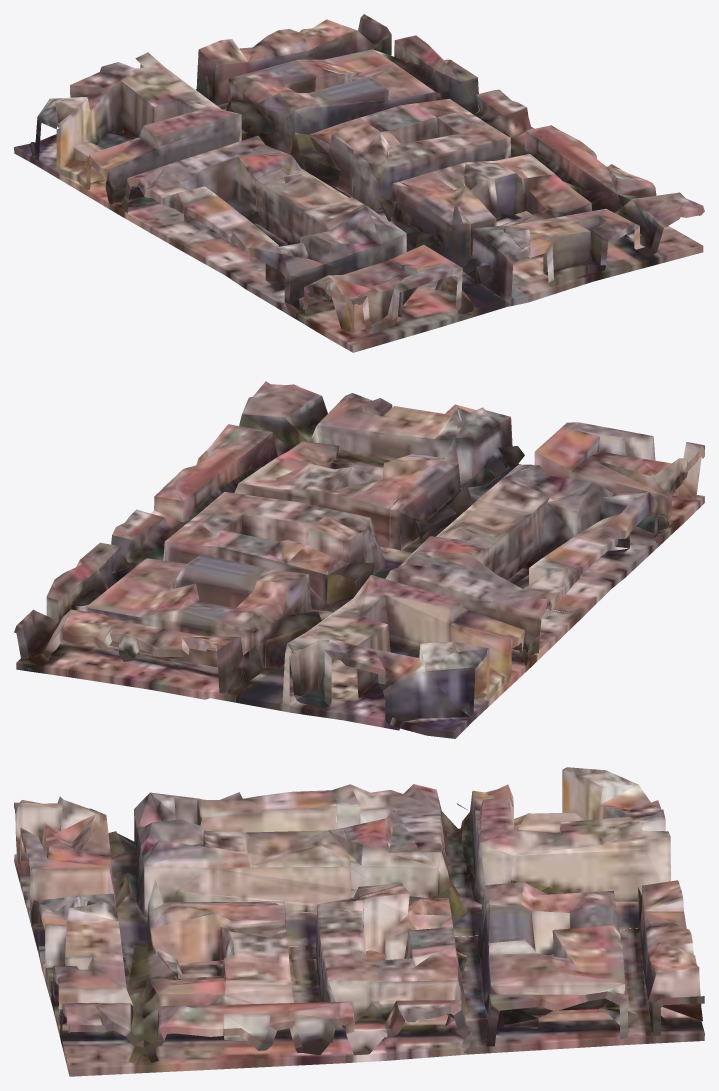
3 views of the same model, one above another, from view 1: azimuth 30°, elevation 25°; view 2: azimuth 150°, elevation 25°; view 3: azimuth 270°, elevation 25° (orthographic). The views are drawn at different scales.
Parts seen in each view (by area): view 1: Mesh_0; view 2: Mesh_0; view 3: Mesh_0.
Part boxes in pixels (x1,y1,x2,y2): Mesh_0: [14, 14, 704, 352]; Mesh_0: [14, 381, 704, 738]; Mesh_0: [14, 767, 704, 1076].
Bounding box in the file's own units: 267 × 43.75 × 330.
1 material, 1 textured.
